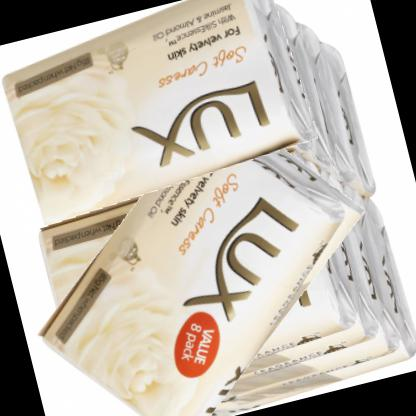soap: (0, 112, 393, 415), (0, 0, 320, 229)
